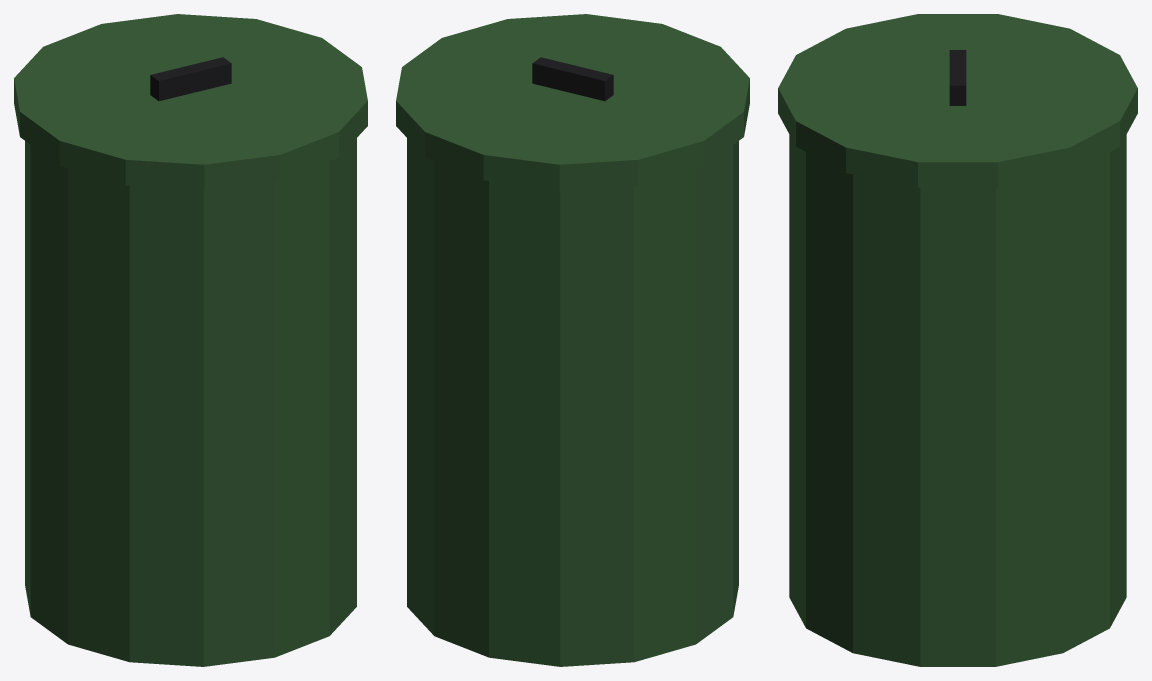
Rendered from trash can.glb.
The picture shows the model from 3 angles, left to right: view 1: azimuth 30°, elevation 25°; view 2: azimuth 150°, elevation 25°; view 3: azimuth 270°, elevation 25°; orthographic projection.
Parts seen in each view (by area): view 1: trash can; view 2: trash can; view 3: trash can.
Boxes of the visible parts, box(x1,y1,x2,y2) form: trash can: box(14, 14, 367, 666); trash can: box(396, 14, 749, 666); trash can: box(778, 14, 1137, 666).
Size of the model in its own units: 0.624 by 1.04 by 0.64.
